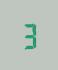three: (19, 20, 37, 49)
